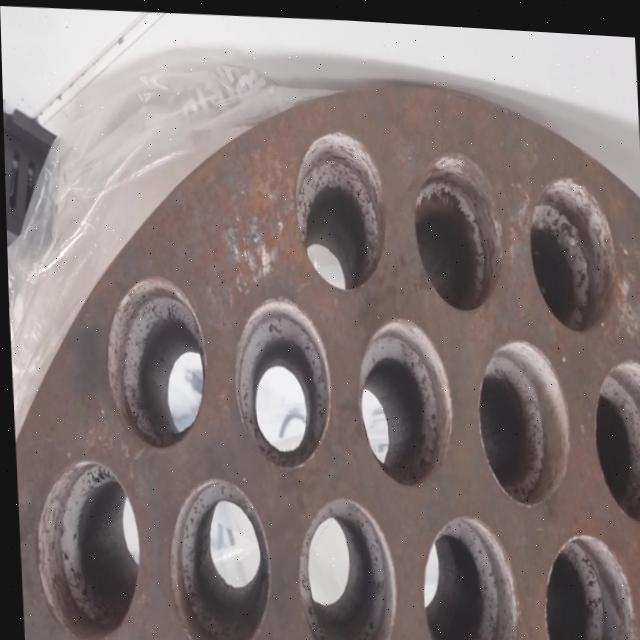Hole: (29, 456, 141, 640), (101, 270, 208, 451), (162, 471, 270, 640), (230, 291, 331, 469), (353, 310, 453, 487), (473, 329, 572, 505), (289, 122, 387, 290), (289, 490, 396, 640), (410, 143, 504, 309), (525, 167, 618, 328), (416, 505, 518, 640), (539, 524, 634, 640), (588, 349, 640, 516)
